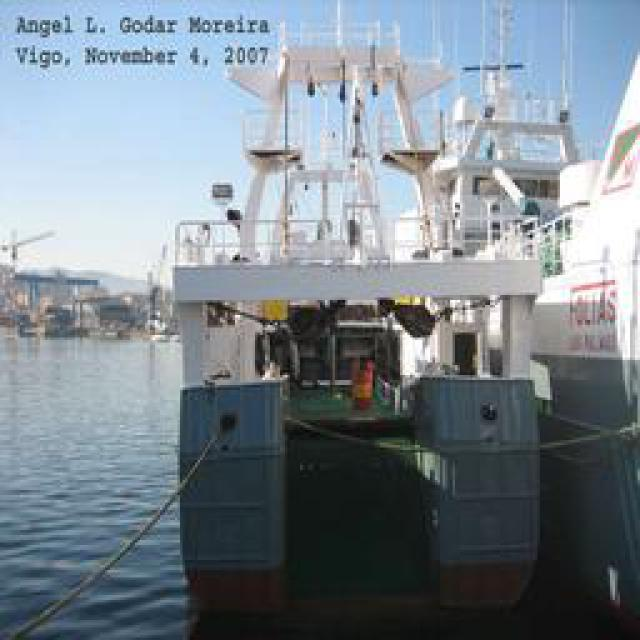Ship: (124, 27, 577, 615)
